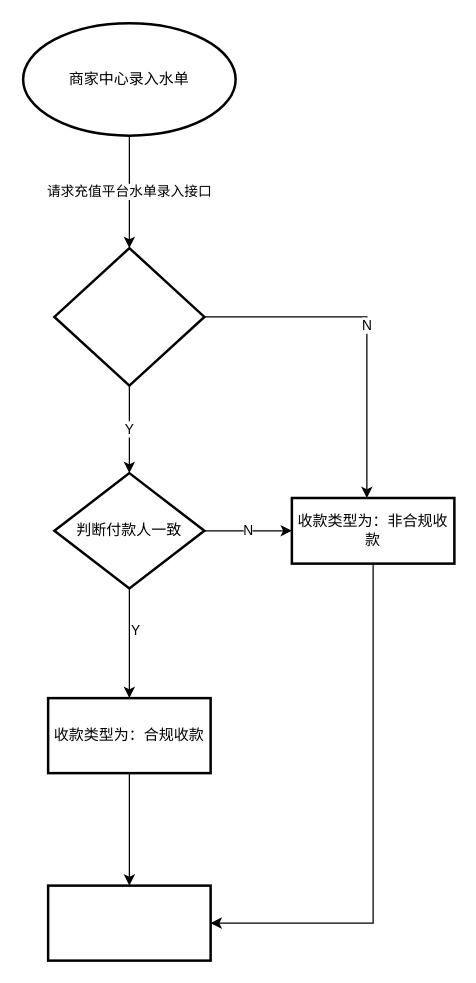
Image size: 476x983. Some labels were removed from this diagram. Each missing label, with the box of its shape:
保存水单记录: (46, 884, 211, 961)
判断我司收款一致: (52, 246, 205, 386)
